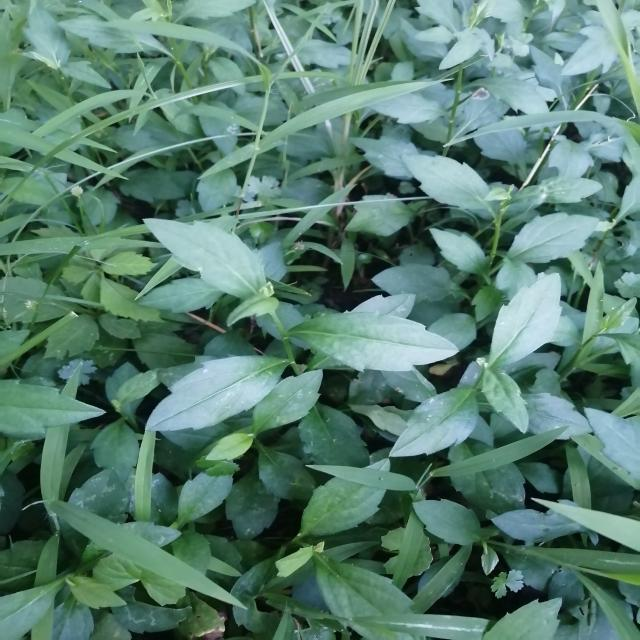Indian aster: (134, 211, 436, 439), (381, 274, 585, 458)
